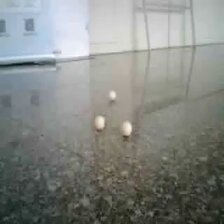tennis: (197, 121, 222, 154), (113, 82, 128, 104), (38, 69, 53, 90), (126, 61, 136, 76)
